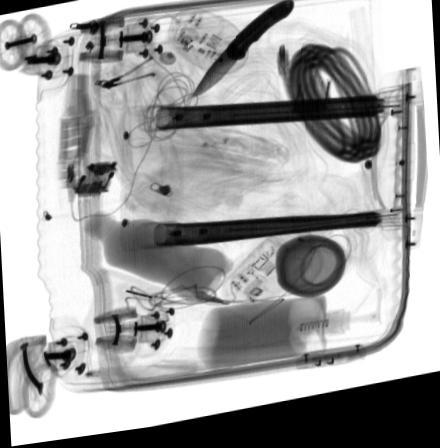Knife: (190, 7, 293, 104)
